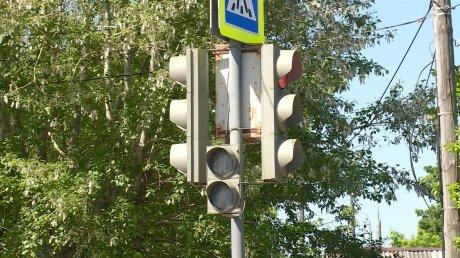obstructed_road_sign: (218, 0, 263, 43)
off traffic light: (262, 44, 303, 181), (170, 48, 208, 184), (207, 146, 243, 215)
